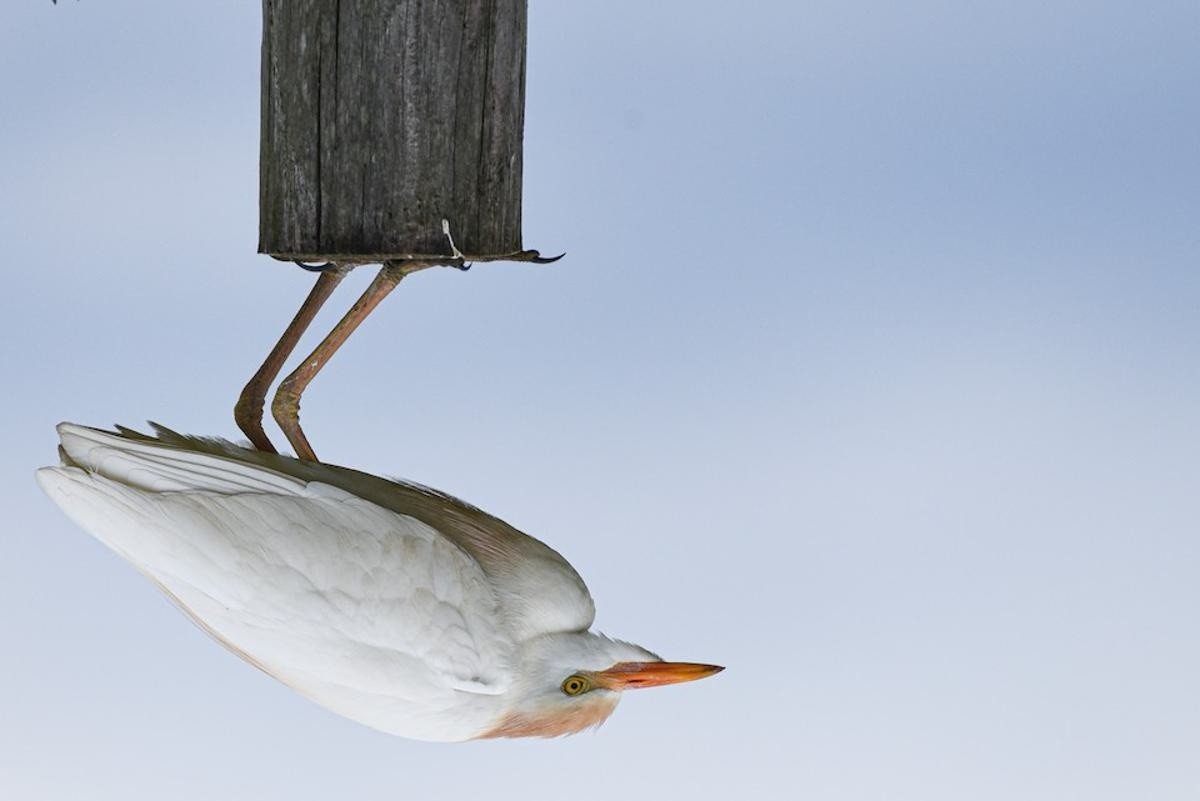egret: (25, 222, 728, 751)
